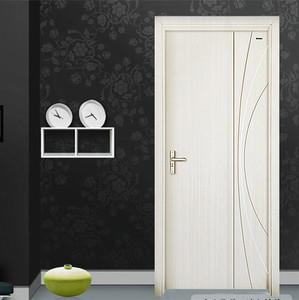door: (167, 31, 269, 288)
